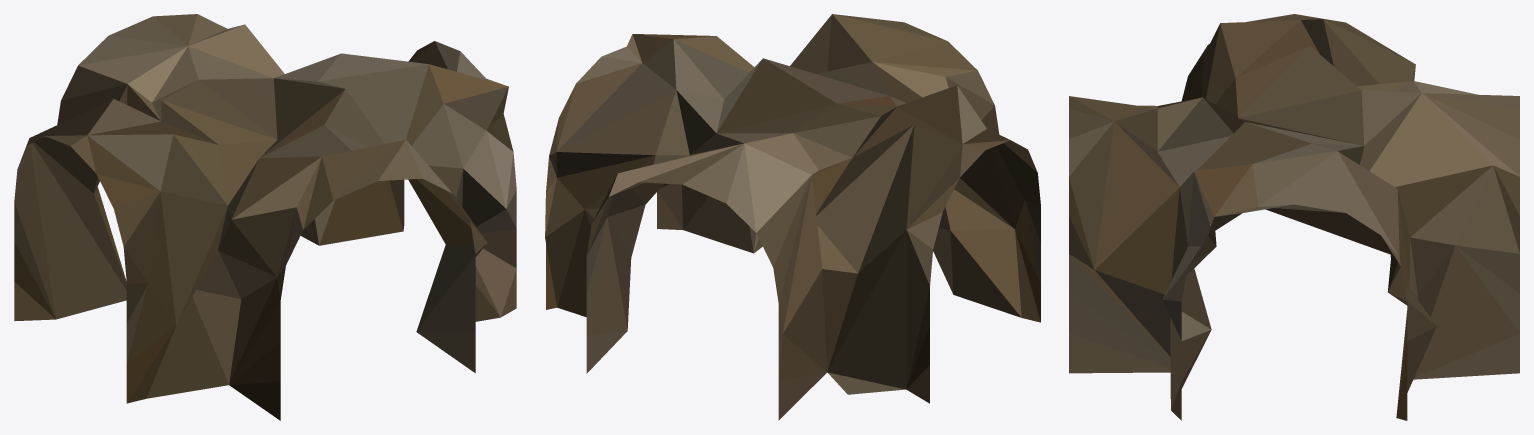
The model's file is Cave-Intersection.fbx.
The picture shows the model from 3 angles, left to right: view 1: azimuth 30°, elevation 25°; view 2: azimuth 150°, elevation 25°; view 3: azimuth 270°, elevation 25°; orthographic projection.
Parts seen in each view (by area): view 1: Cave-Intersection; view 2: Cave-Intersection; view 3: Cave-Intersection.
Boxes of the visible parts, box(x1,y1,x2,y2) form: Cave-Intersection: box(14, 14, 516, 420); Cave-Intersection: box(545, 14, 1040, 420); Cave-Intersection: box(1069, 14, 1519, 420).
Bounding box in the file's own units: 1022 × 586 × 1000.
